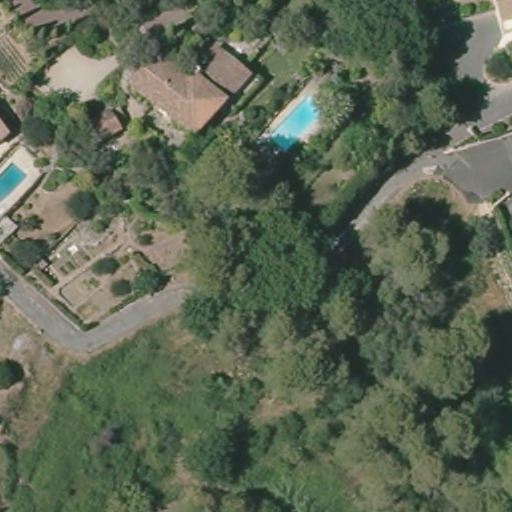pool: (261, 93, 334, 158), (1, 161, 27, 212)
